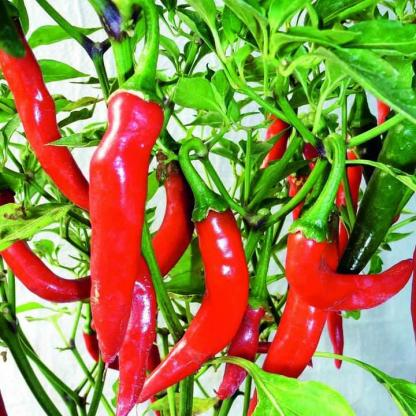--: (82, 0, 172, 379), (132, 129, 245, 414)
